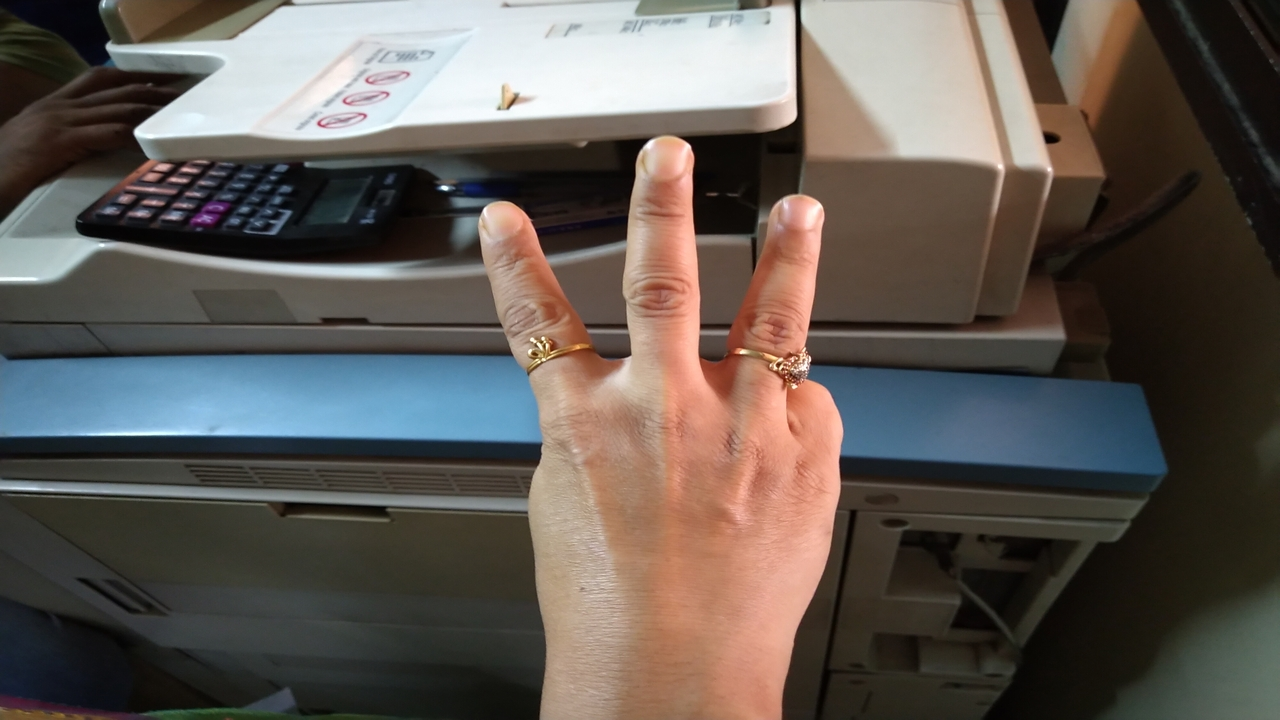fingertip: (760, 184, 830, 250), (466, 194, 538, 258), (626, 130, 696, 194)
